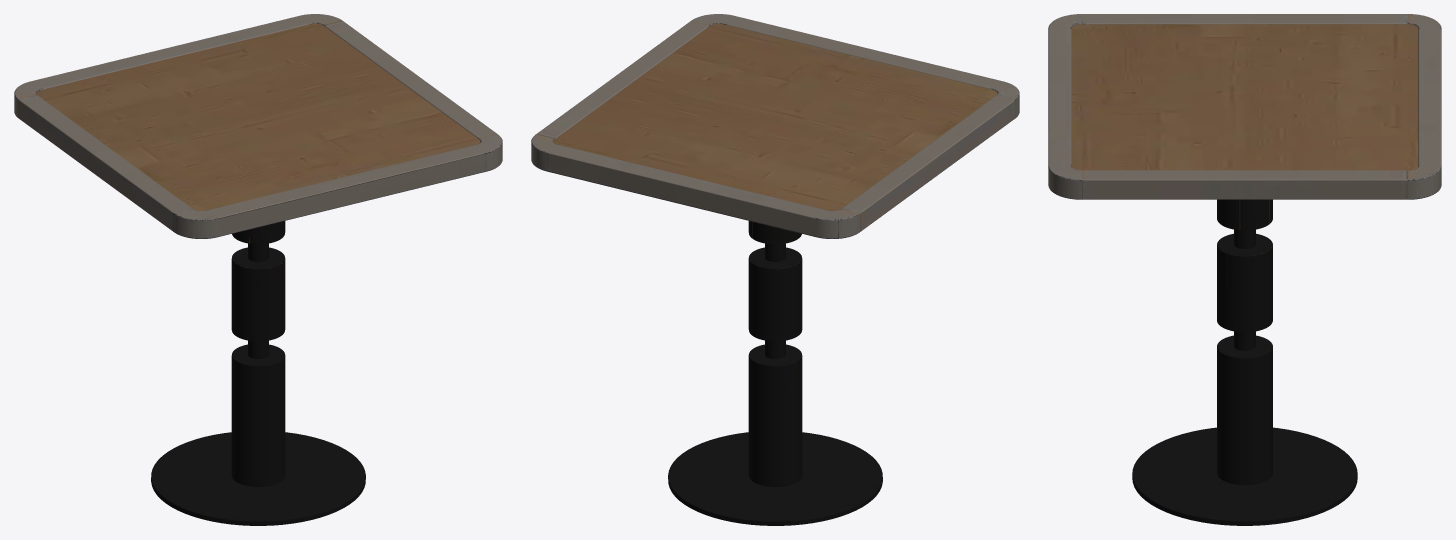
File: table.glb
3 renders of one model, left to right at view 1: azimuth 30°, elevation 25°; view 2: azimuth 150°, elevation 25°; view 3: azimuth 270°, elevation 25°, orthographic. The views are drawn at different scales.
Parts seen in each view (by area): view 1: Restaurant_Table; view 2: Restaurant_Table; view 3: Restaurant_Table.
Part boxes in pixels (<box>): Restaurant_Table: <box>14,14,502,525</box>; Restaurant_Table: <box>531,14,1019,525</box>; Restaurant_Table: <box>1048,14,1441,525</box>.
Size of the model in its own units: 0.7 by 0.75 by 0.7.
1 material, 1 textured.
